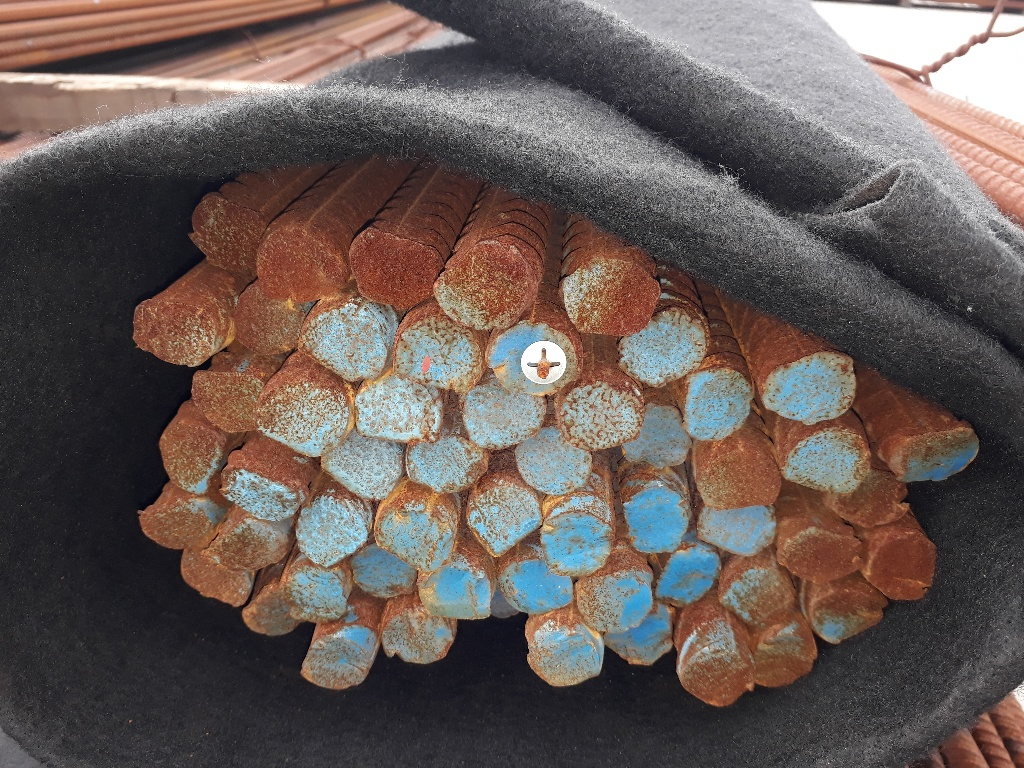dipstick: (437, 241, 537, 330), (763, 350, 853, 427), (622, 310, 706, 388), (567, 260, 656, 332), (350, 231, 435, 306), (258, 382, 350, 450), (300, 307, 386, 378), (259, 229, 346, 299), (394, 319, 479, 388), (525, 616, 604, 690), (488, 327, 574, 393), (192, 195, 262, 272), (132, 300, 215, 363), (784, 429, 865, 490), (467, 385, 546, 447), (321, 435, 400, 497), (356, 379, 437, 438), (221, 461, 302, 520), (380, 504, 453, 567), (698, 453, 781, 508), (518, 429, 591, 491), (895, 427, 980, 480), (563, 383, 634, 446), (681, 643, 753, 705), (468, 488, 537, 552), (578, 569, 651, 629), (543, 510, 610, 575), (296, 501, 365, 564), (190, 370, 258, 433), (690, 367, 750, 438), (234, 289, 298, 355), (625, 484, 689, 550), (871, 535, 937, 598), (406, 440, 487, 490), (158, 427, 220, 492), (783, 532, 860, 583), (180, 551, 250, 607), (623, 405, 687, 466), (756, 623, 817, 686), (721, 570, 793, 623), (381, 611, 453, 663), (418, 570, 491, 620), (699, 507, 775, 555), (812, 592, 885, 641), (656, 551, 721, 606), (504, 564, 573, 613), (215, 524, 284, 573), (284, 569, 346, 623), (140, 502, 207, 551), (840, 477, 907, 525), (302, 638, 365, 686), (356, 552, 412, 599), (603, 629, 668, 667), (247, 585, 293, 633)
